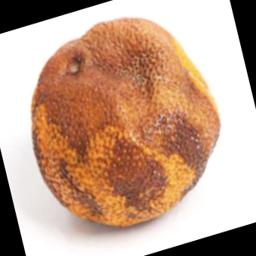Orange Rotten: (22, 0, 243, 253)
